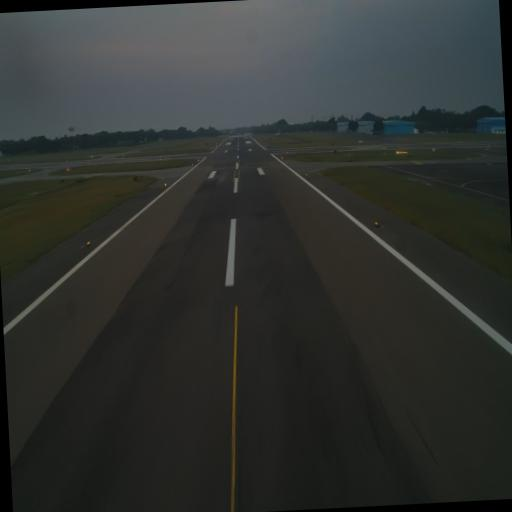on: (86, 238, 93, 249), (374, 218, 380, 228)
